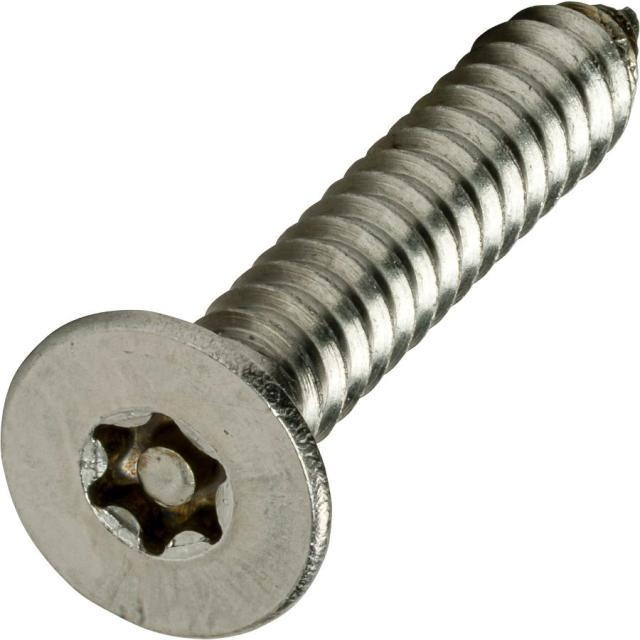torx: (3, 309, 333, 639)
